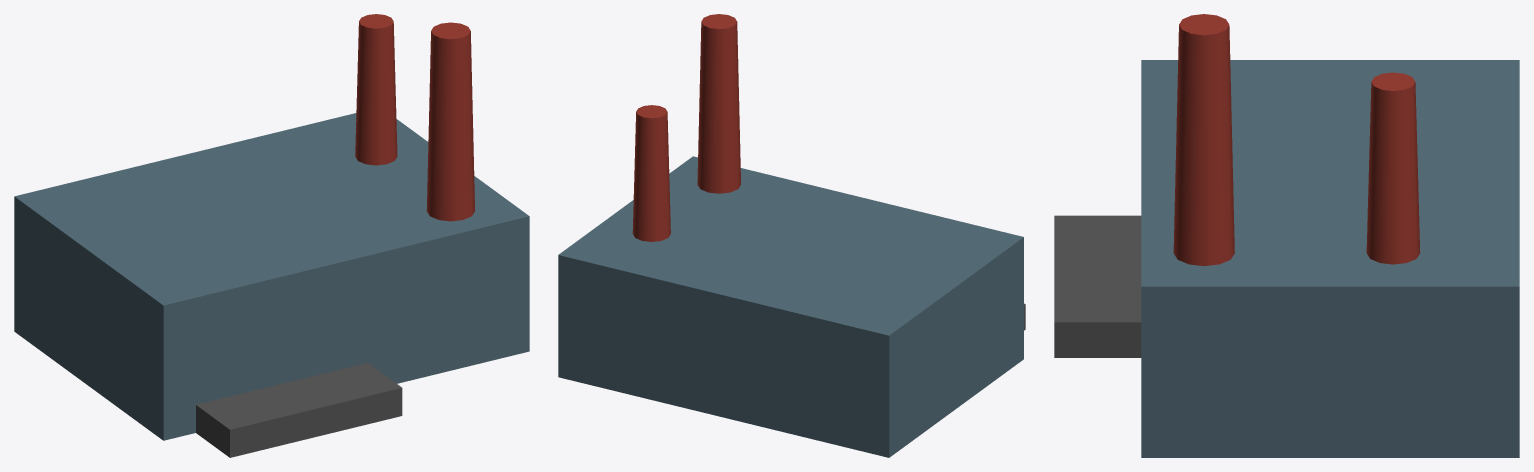
The model's file is factory_01.glb.
3 renders of one model, left to right at view 1: azimuth 30°, elevation 25°; view 2: azimuth 150°, elevation 25°; view 3: azimuth 270°, elevation 25°, orthographic. The views are drawn at different scales.
Size of the model in its own units: 34 by 28 by 29.5.
